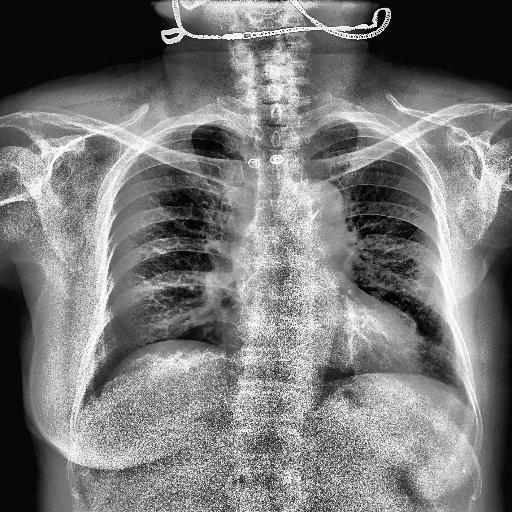0- Aortic enlargement: (280, 184, 346, 254), (283, 178, 346, 240), (277, 178, 345, 235)
3- Cardiomegaly: (216, 304, 428, 376), (220, 317, 426, 374)
